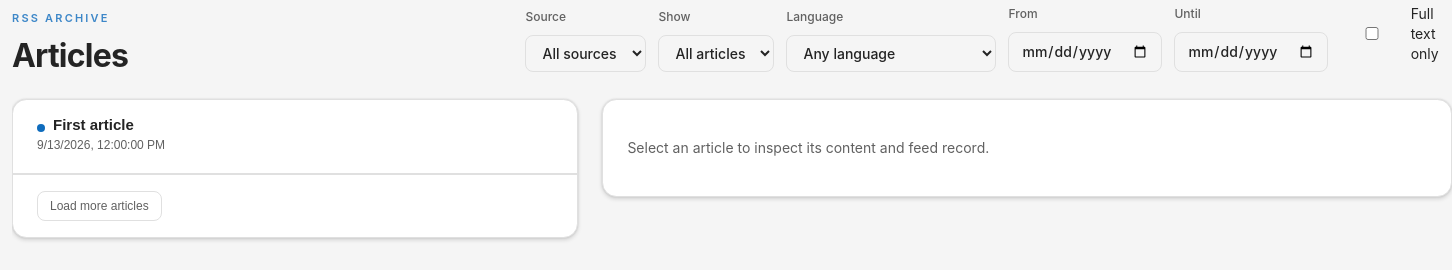
it: loads the next cursor page without replacing earlier articles
Expected: the text "First article" is shown, [53, 116, 134, 133]
Step 1. Click the button "Load more articles" → (99, 206), box [37, 191, 162, 221]
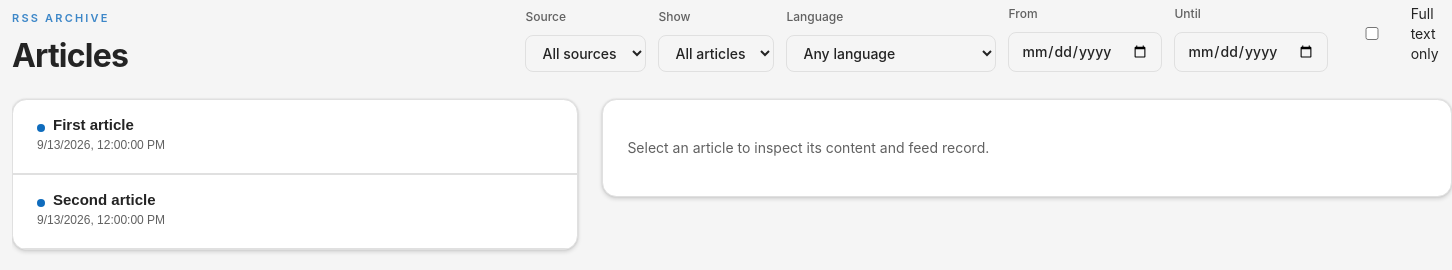
Expected: the text "First article" is shown, [53, 116, 134, 133]
Expected: the text "Second article" is shown, [53, 191, 156, 208]
